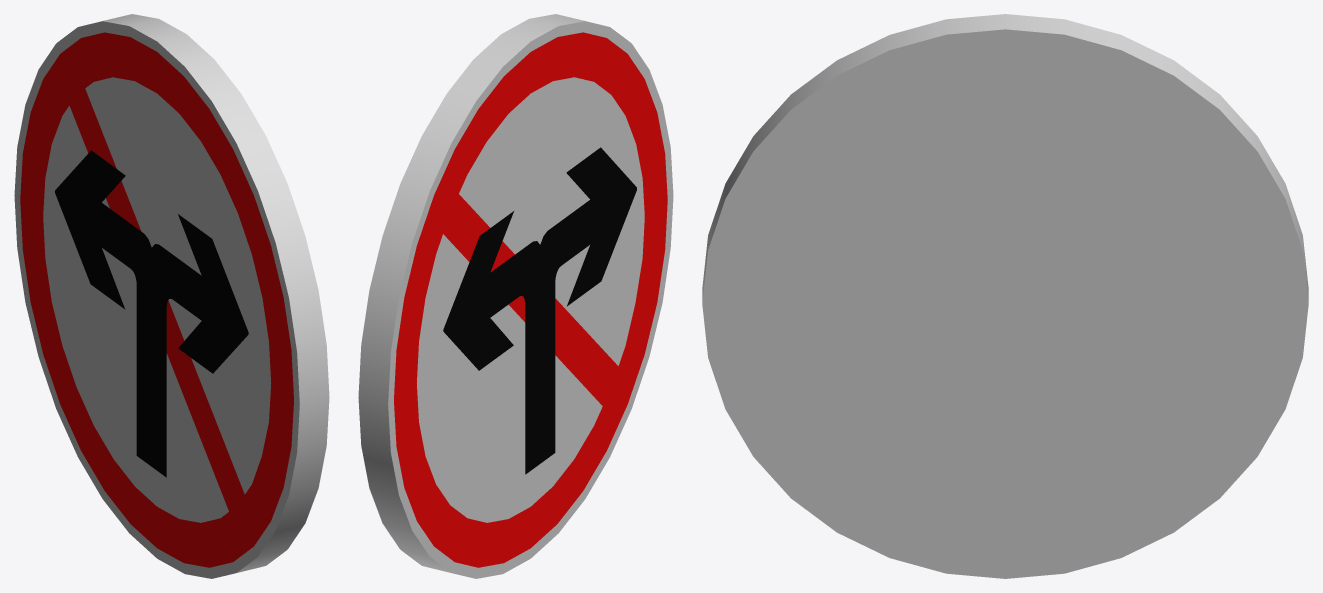
File: No_Left_Right_Turn.fbx
3 views of the same model, side by side, from view 1: azimuth 30°, elevation 25°; view 2: azimuth 150°, elevation 25°; view 3: azimuth 270°, elevation 25° (orthographic). The views are drawn at different scales.
Parts seen in each view (by area): view 1: No_Left_Right_Turn; view 2: No_Left_Right_Turn; view 3: No_Left_Right_Turn.
Boxes of the visible parts, left/top/right/bottom form: No_Left_Right_Turn: left=14, top=14, right=329, bottom=578; No_Left_Right_Turn: left=358, top=14, right=673, bottom=578; No_Left_Right_Turn: left=702, top=14, right=1308, bottom=578.
Bounding box in the file's own units: 0.075 × 1 × 1.
